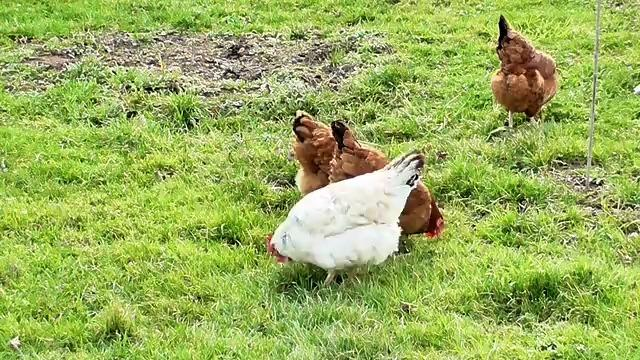Normal: (266, 151, 417, 272), (491, 14, 558, 117)
